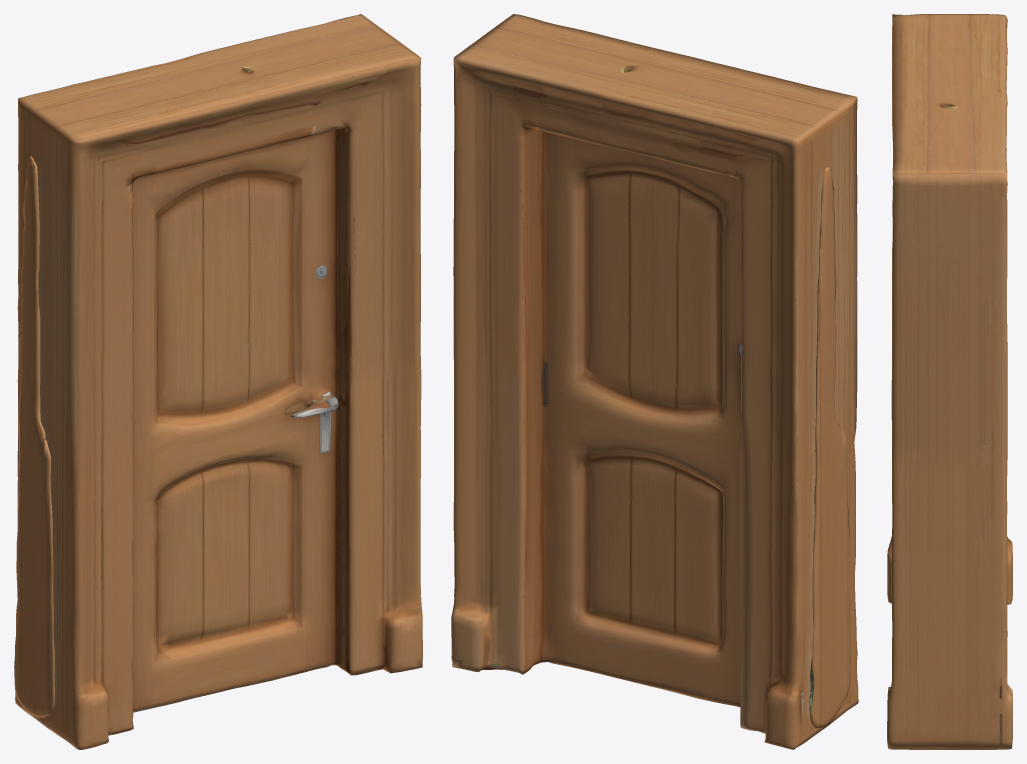
Rendered from Crea_una_puerta_de_of_1030024133_texture.fbx.
3 views of the same model, side by side, from view 1: azimuth 30°, elevation 25°; view 2: azimuth 150°, elevation 25°; view 3: azimuth 270°, elevation 25° (orthographic). The views are drawn at different scales.
Visible parts, largest first — view 1: input; view 2: input; view 3: input.
Boxes of the visible parts, x1,y1,x2,y2 form: input: (14, 14, 422, 749); input: (451, 14, 858, 749); input: (887, 14, 1012, 749).
Size of the model in its own units: 122 by 200 by 39.61.
Materials: 1 (1 with a texture image).
